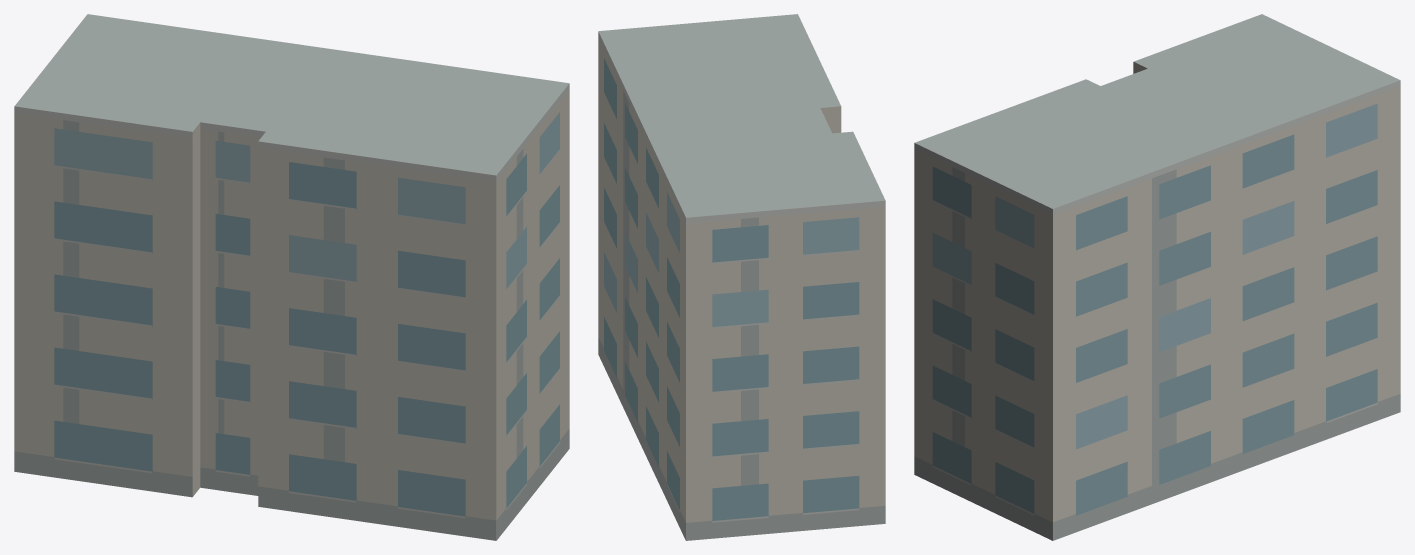
File: survey-upis-32785212.glb
3 renders of one model, left to right at view 1: azimuth 30°, elevation 25°; view 2: azimuth 150°, elevation 25°; view 3: azimuth 270°, elevation 25°, orthographic. The views are drawn at different scales.
Visible parts, largest first — view 1: survey-upis-32785212.tmp; view 2: survey-upis-32785212.tmp; view 3: survey-upis-32785212.tmp.
Boxes of the visible parts, bbox=[...] form: survey-upis-32785212.tmp: bbox=[14, 14, 569, 540]; survey-upis-32785212.tmp: bbox=[598, 14, 885, 540]; survey-upis-32785212.tmp: bbox=[914, 14, 1400, 540].
Size of the model in its own units: 16.9 by 13.4 by 17.8.
